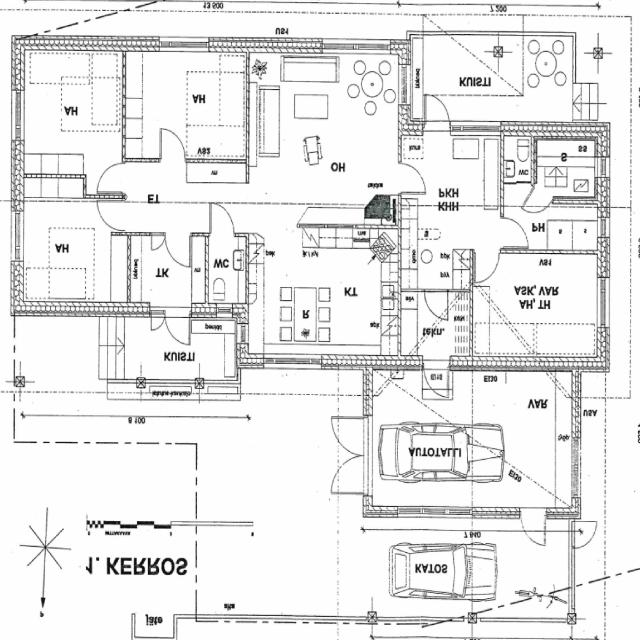door: (331, 416, 373, 456), (331, 456, 373, 495), (423, 354, 450, 402), (520, 505, 548, 550), (523, 181, 554, 220), (424, 92, 450, 138), (166, 301, 190, 346), (424, 288, 448, 322), (500, 218, 527, 248), (99, 200, 126, 230), (99, 163, 126, 193), (568, 521, 598, 548), (162, 129, 186, 162), (398, 164, 426, 192), (210, 204, 234, 236), (167, 232, 190, 264), (476, 250, 498, 282)
